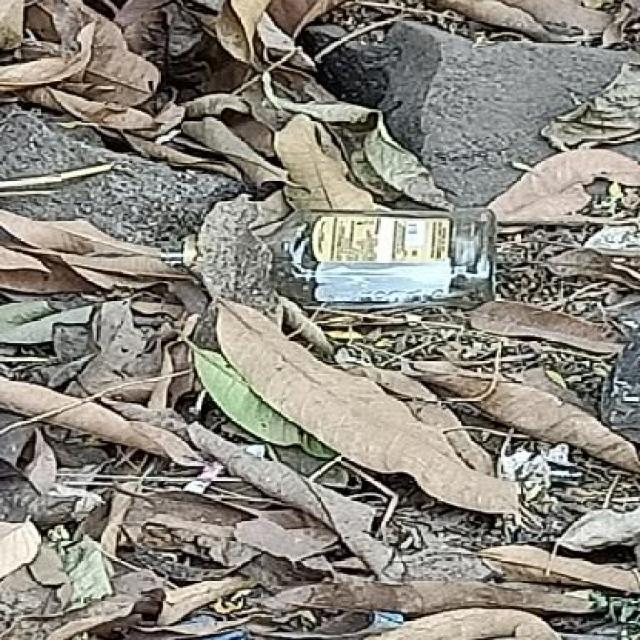garbage: (6, 11, 632, 631)
